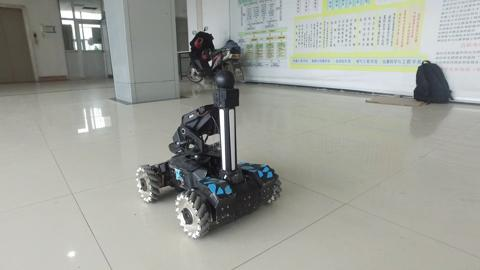bag: (404, 57, 459, 111)
chariot: (128, 66, 291, 239)
